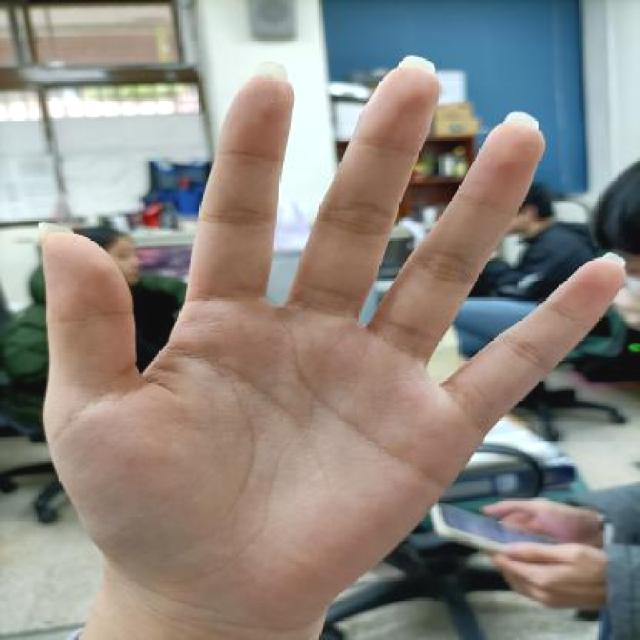no_glove: (10, 40, 639, 634)
